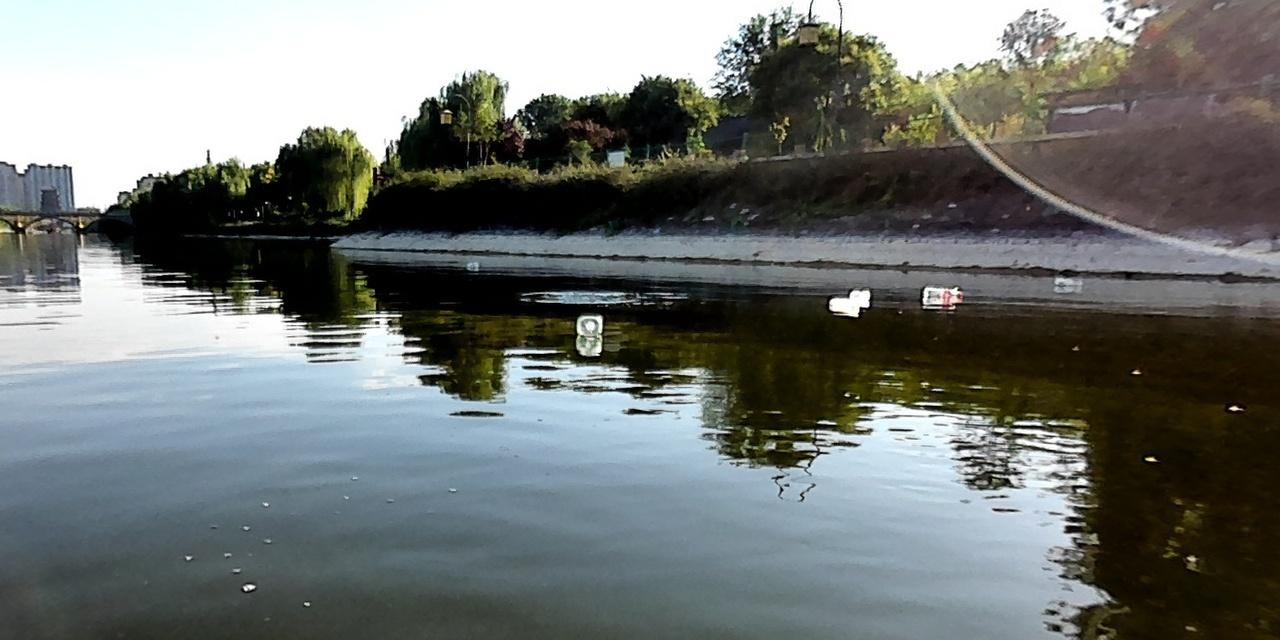bottle: (919, 283, 964, 303), (573, 310, 604, 337), (825, 293, 862, 309), (1050, 272, 1085, 288), (847, 287, 873, 298), (463, 258, 481, 269)
